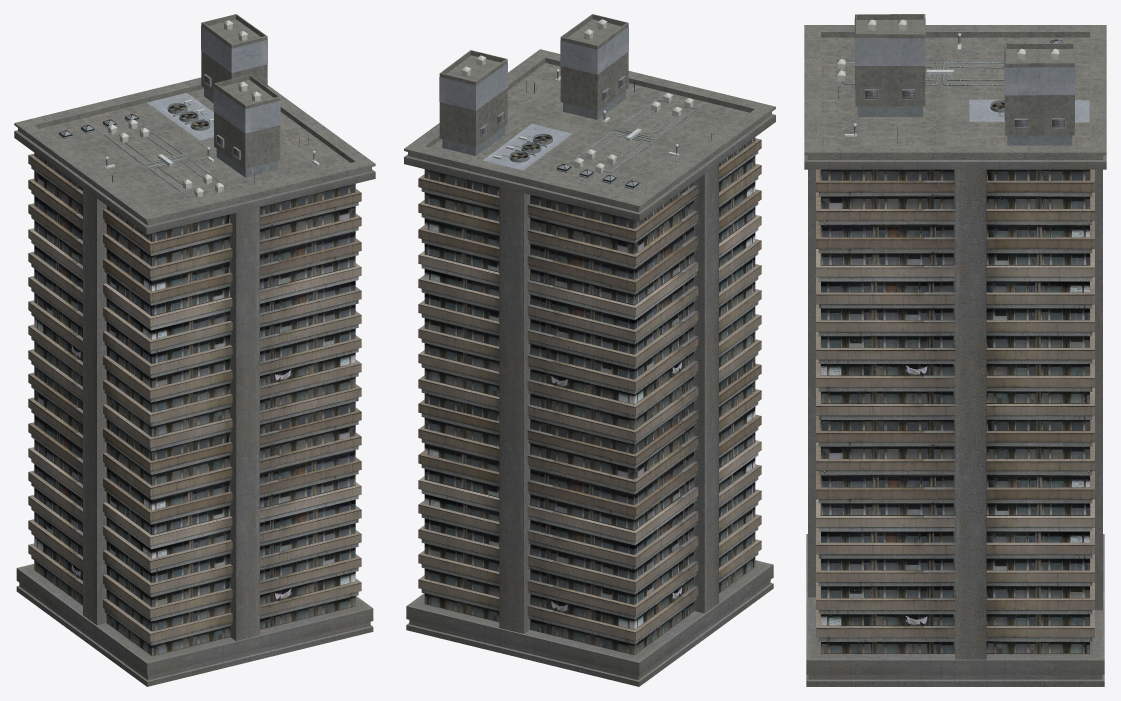
The model's file is u2NBuild2.gltf.
3 views of the same model, side by side, from view 1: azimuth 30°, elevation 25°; view 2: azimuth 150°, elevation 25°; view 3: azimuth 270°, elevation 25° (orthographic). The views are drawn at different scales.
Parts seen in each view (by area): view 1: u2NBuild2; view 2: u2NBuild2; view 3: u2NBuild2.
Boxes of the visible parts, left/top/right/bottom form: u2NBuild2: left=14, top=14, right=375, bottom=686; u2NBuild2: left=404, top=14, right=775, bottom=686; u2NBuild2: left=804, top=14, right=1106, bottom=686.
Bounding box in the file's own units: 13.75 × 31.02 × 13.75.
Materials: 11 (11 with a texture image).
